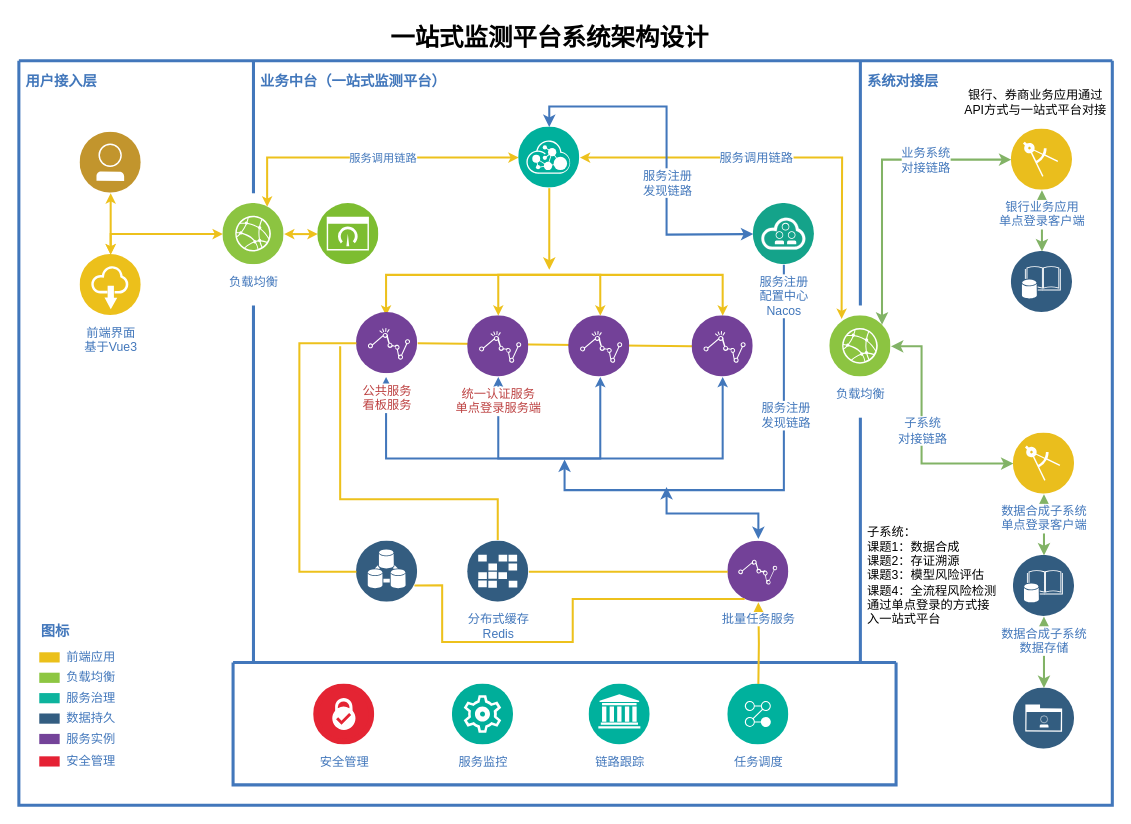
Image size: 1131x824. Some labels were removed from this diagram. Each missing label, with the centre of its shape:
"NGINX" belongs at [347,233].
"关系型数据库 MySQL" belongs at [386,571].
"数据合成 模型检测 存证溯源 风险监测" belongs at [598,345].
"数据合成子系统 用户映射" belongs at [1043,718].
"服务网关 服务网关控制台" belongs at [548,157].
"用户" belongs at [110,162].
"银行业务应用 数据存储" belongs at [1041,281].
"银行券商 业务服务" belongs at [722,345].
